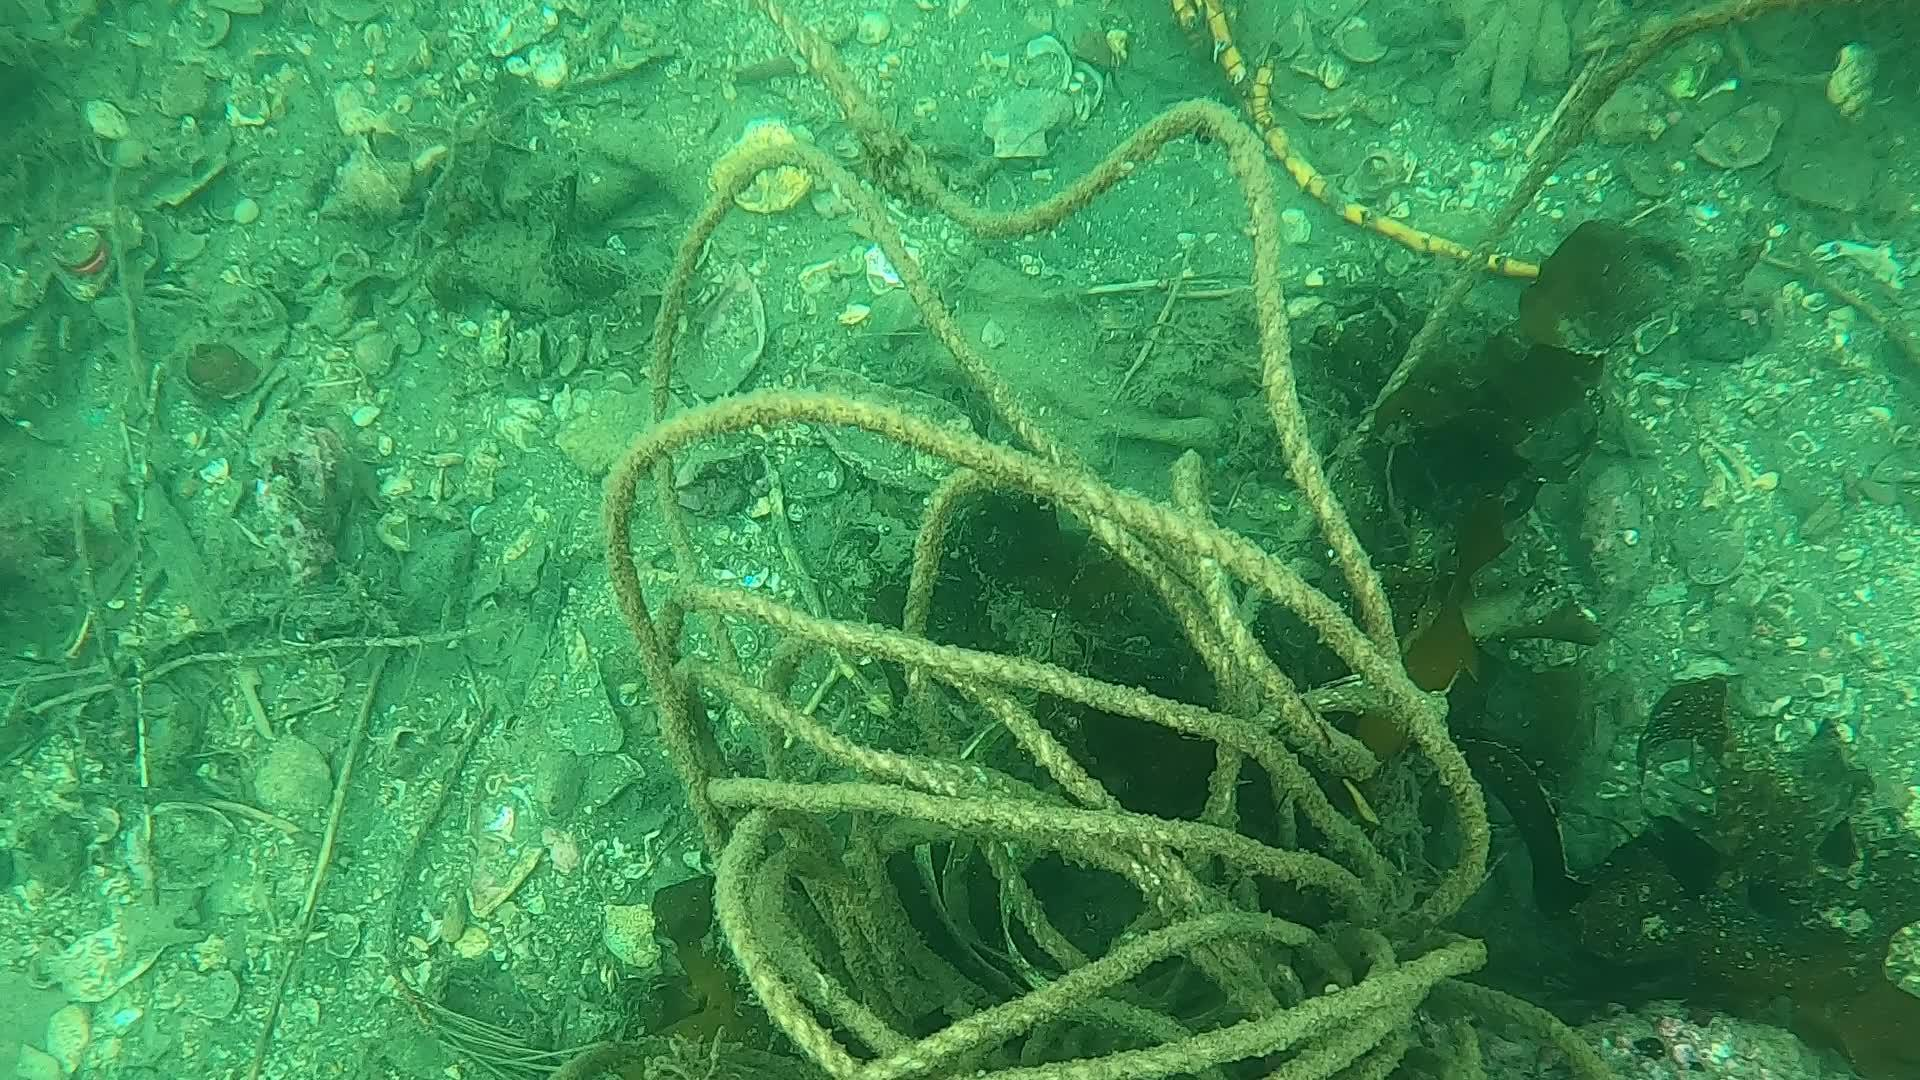bundle of ropes: (597, 0, 1619, 1080)
